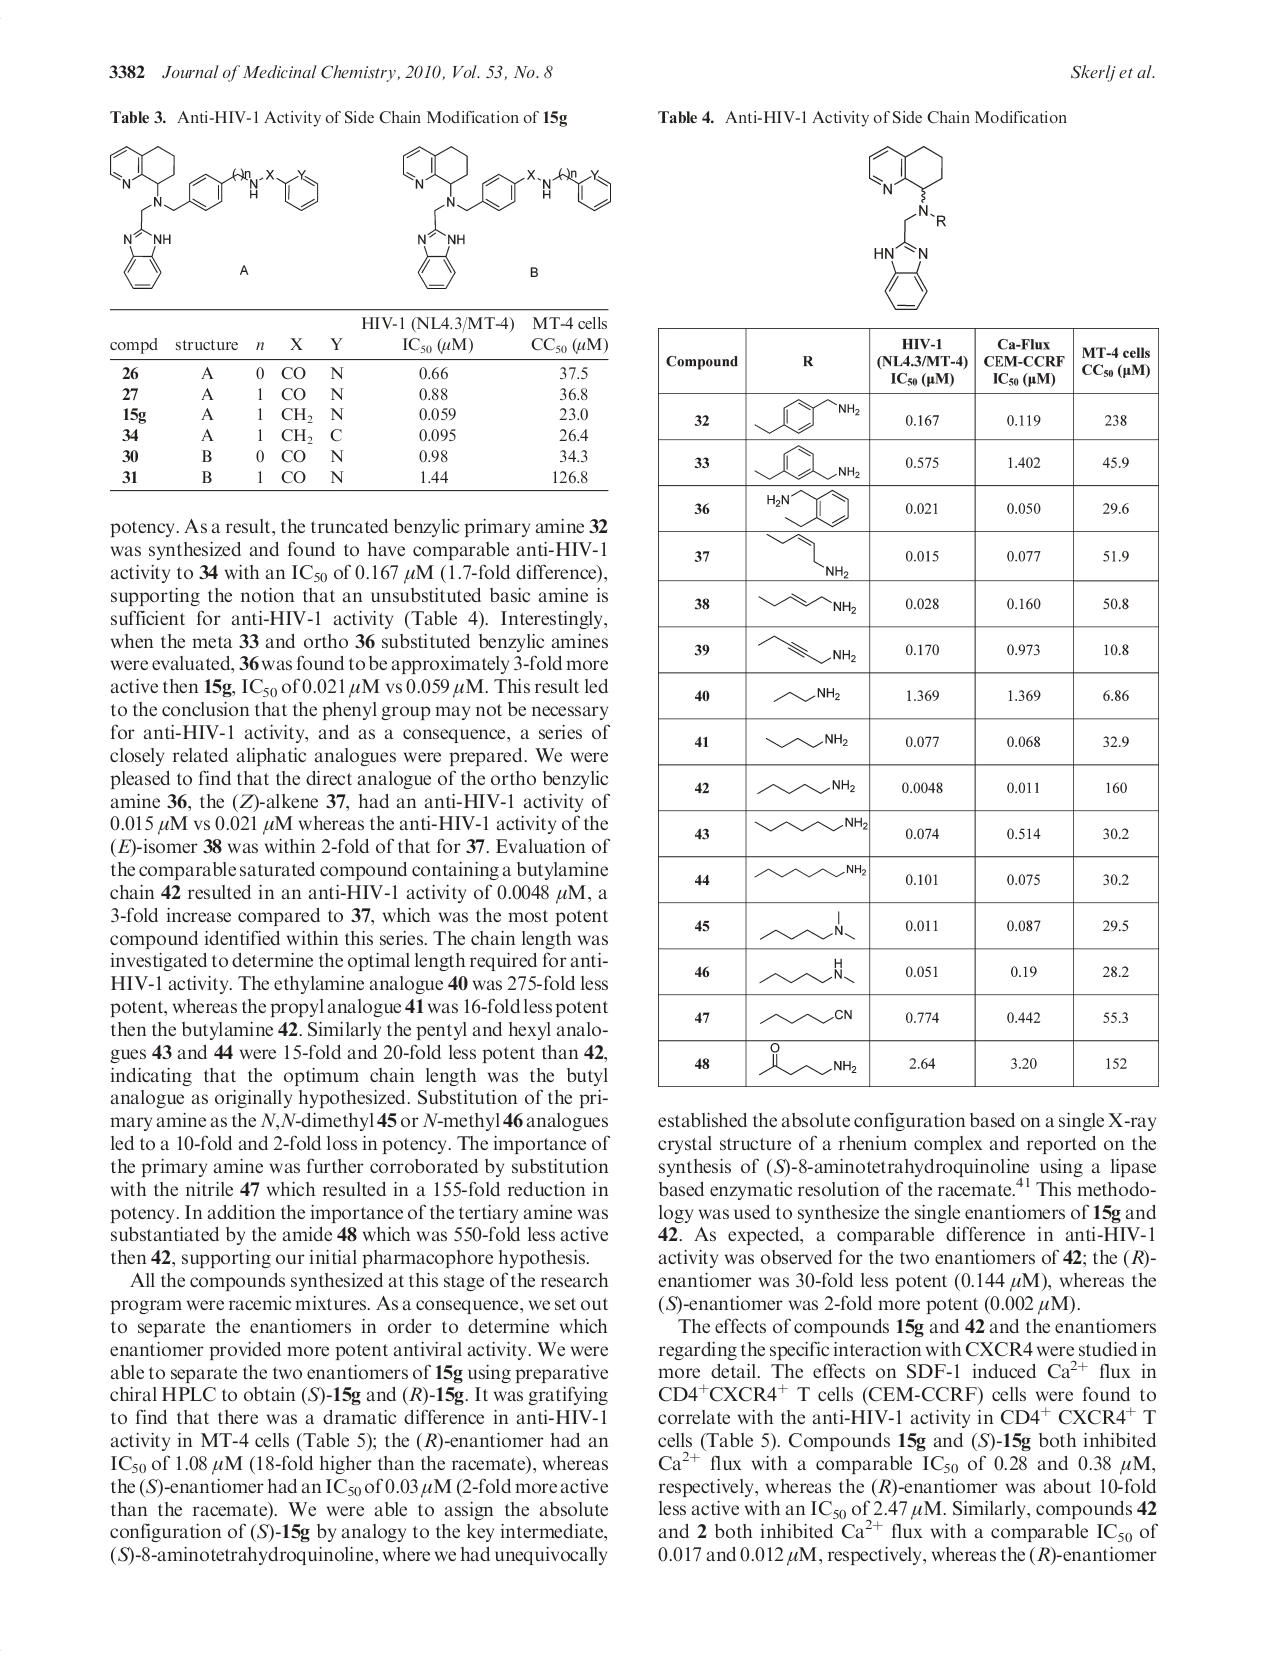exist_molecular: (104, 140, 324, 294), (399, 141, 620, 294), (863, 140, 955, 313), (753, 436, 860, 488), (757, 528, 864, 577), (753, 1039, 864, 1081), (755, 396, 864, 439), (755, 487, 860, 531), (755, 813, 868, 848), (757, 954, 868, 988), (751, 632, 856, 666), (755, 910, 860, 943), (759, 677, 850, 715), (759, 585, 867, 617), (753, 773, 860, 802), (750, 860, 864, 887), (763, 727, 856, 754), (757, 1004, 864, 1025)
